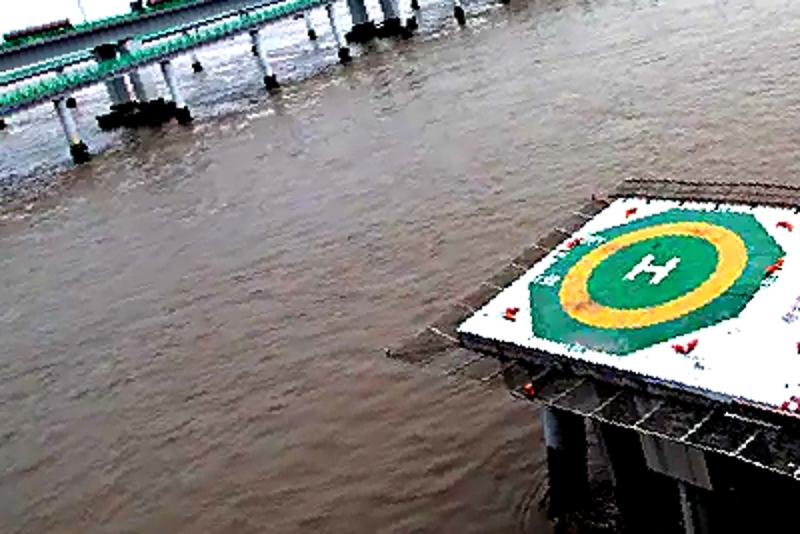Apron: (560, 217, 755, 331)
